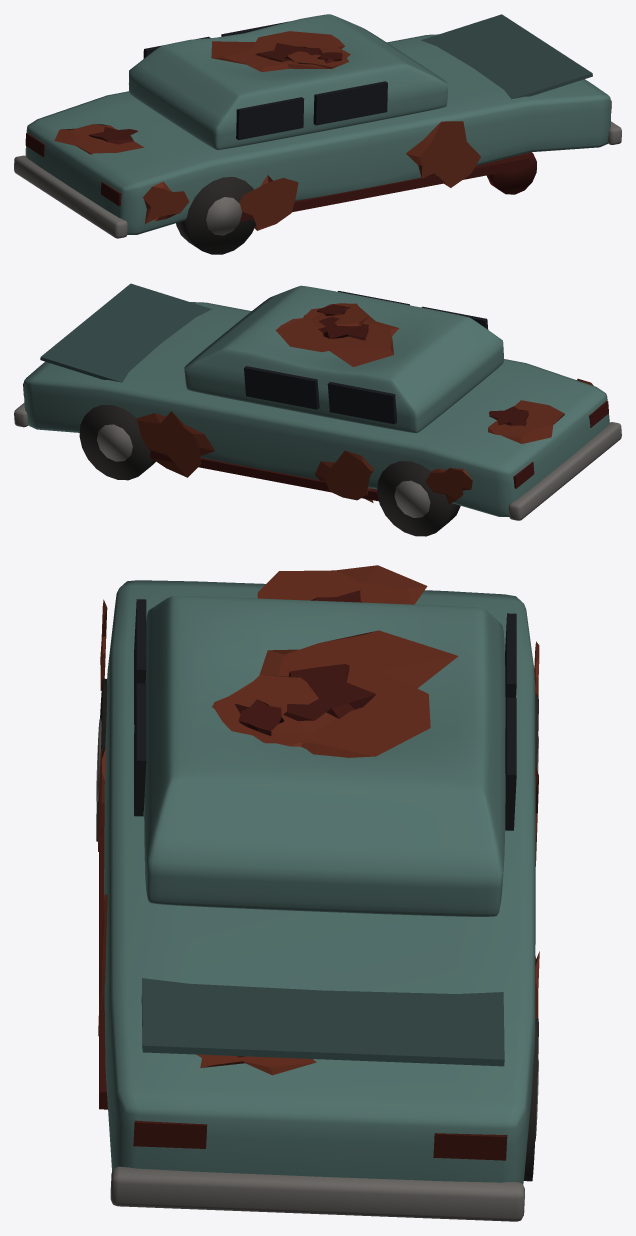
File: wreck.glb
3 views of the same model, one above another, from view 1: azimuth 30°, elevation 25°; view 2: azimuth 150°, elevation 25°; view 3: azimuth 270°, elevation 25° (orthographic). The views are drawn at different scales.
Parts seen in each view (by area): view 1: body_low, cabin, bonnet, tyre_-14_-7, rust_side_0_-1, rust_0, bumper_-1, sill_rot, window_-1_0, window_-1_-7, rust_side_1_-1, rust_2 (+6 smaller); view 2: body_low, cabin, bonnet, rust_0, tyre_-14_7, tyre_14_7, rust_side_0_1, bumper_-1, window_1_0, window_1_-7, rust_side_1_1, rust_2 (+7 smaller); view 3: body_low, cabin, bonnet, bumper_1, rust_0, rust_2, rust_1, rust_deep_0, lamp_1_1, lamp_1_-1, window_-1_0, window_1_0 (+6 smaller).
Boxes of the visible parts, x1,y1,x2,y2 form: body_low: (25, 34, 610, 234); cabin: (128, 14, 447, 149); bonnet: (421, 14, 592, 99); tyre_-14_-7: (176, 177, 255, 254); rust_side_0_-1: (406, 121, 480, 187); rust_0: (211, 31, 350, 71); bumper_-1: (14, 155, 127, 238); sill_rot: (240, 155, 529, 221); window_-1_0: (313, 81, 387, 125); window_-1_-7: (236, 97, 304, 140); rust_side_1_-1: (239, 175, 298, 230); rust_2: (54, 124, 143, 154); body_low: (23, 302, 609, 516); cabin: (184, 285, 503, 432); bonnet: (40, 283, 211, 382); rust_0: (275, 306, 399, 366); tyre_-14_7: (377, 461, 460, 536); tyre_14_7: (79, 405, 155, 480); rust_side_0_1: (136, 411, 214, 477); bumper_-1: (508, 422, 621, 520); window_1_0: (244, 366, 319, 409); window_1_-7: (327, 382, 397, 424); rust_side_1_1: (314, 450, 374, 502); rust_2: (488, 400, 564, 443); body_low: (104, 580, 535, 1184); cabin: (144, 596, 505, 916); bonnet: (141, 978, 504, 1066); bumper_1: (110, 1166, 524, 1221); rust_0: (212, 630, 458, 757); rust_2: (257, 565, 427, 604); rust_1: (213, 675, 336, 746); rust_deep_0: (283, 664, 376, 720); lamp_1_1: (433, 1133, 507, 1160); lamp_1_-1: (133, 1120, 207, 1148); window_-1_0: (134, 683, 146, 816); window_1_0: (505, 697, 516, 830).
Bounding box in the file's own units: 4.84 × 1.47 × 1.83.
